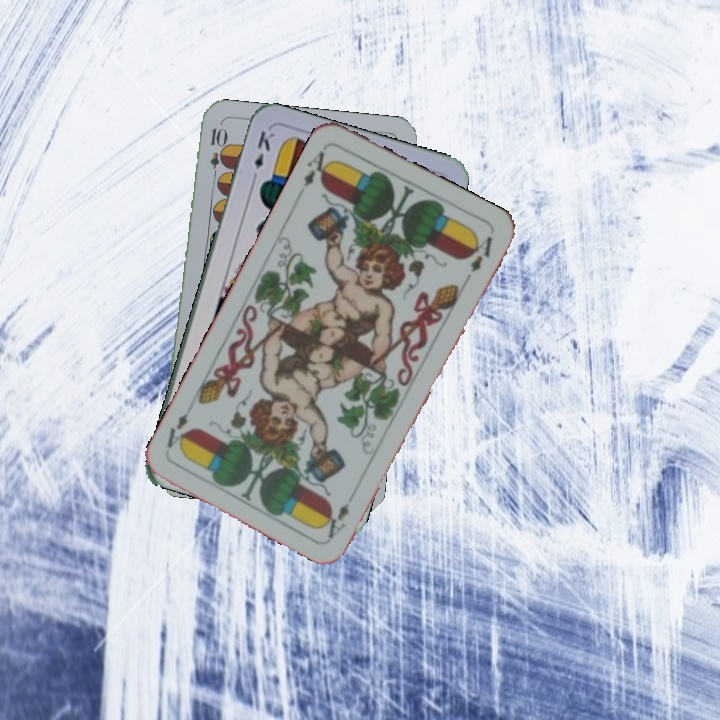E10: (205, 124, 226, 183)
EA: (294, 147, 335, 197), (324, 486, 359, 541)
EK: (247, 126, 277, 185)
